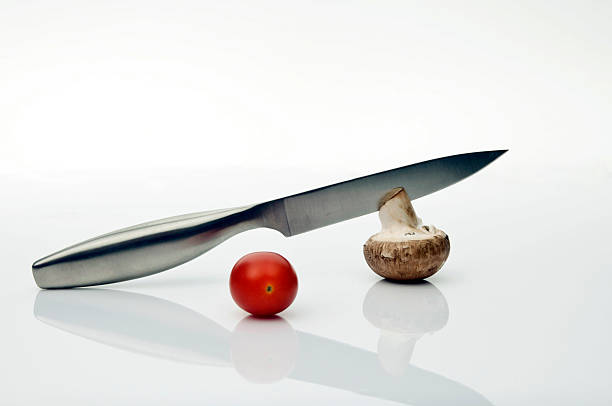knife: (29, 147, 510, 292)
